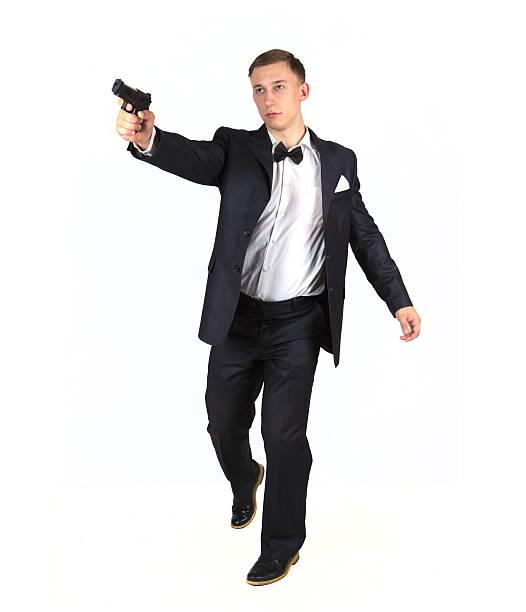weapon: (105, 75, 157, 125)
